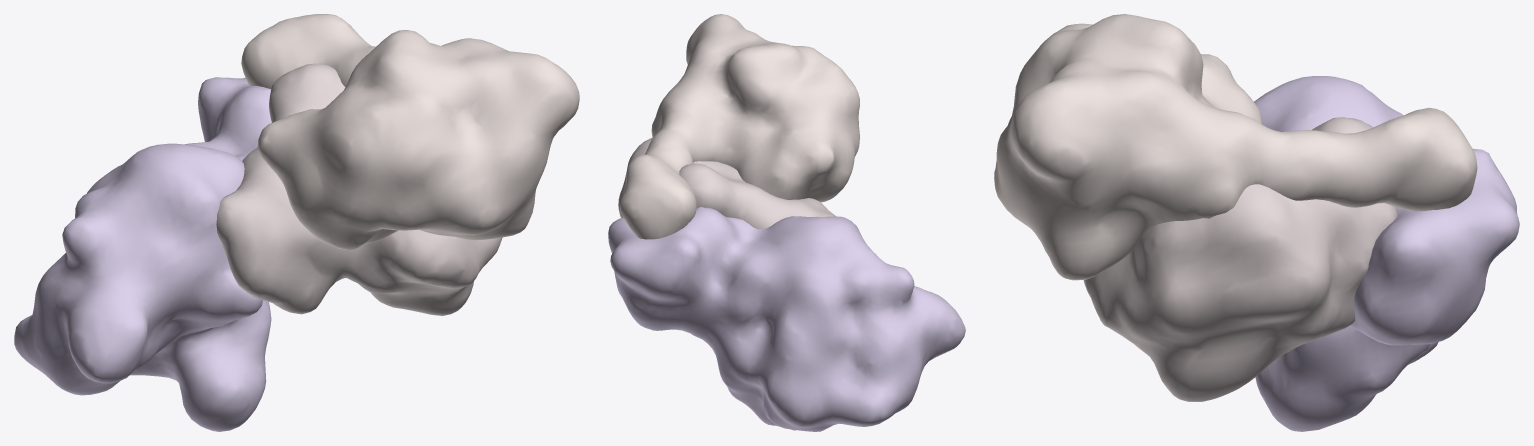
The model's file is vhlc.glb.
The picture shows the model from 3 angles, left to right: view 1: azimuth 30°, elevation 25°; view 2: azimuth 150°, elevation 25°; view 3: azimuth 270°, elevation 25°; orthographic projection. The views are drawn at different scales.
Size of the model in its own units: 70.27 by 65.43 by 66.26.
